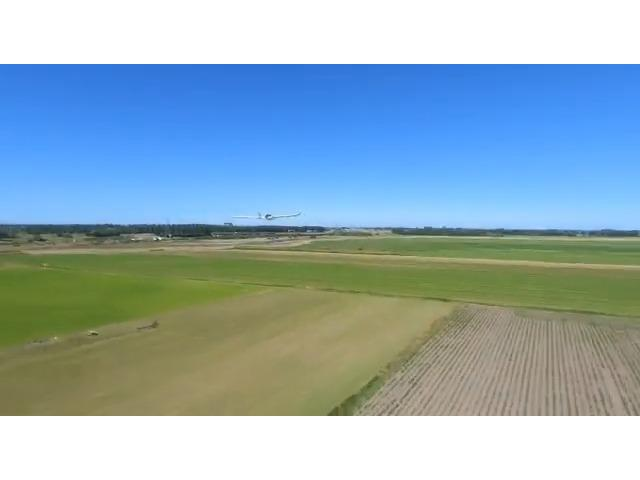Anti-Drone: (228, 192, 308, 242)
